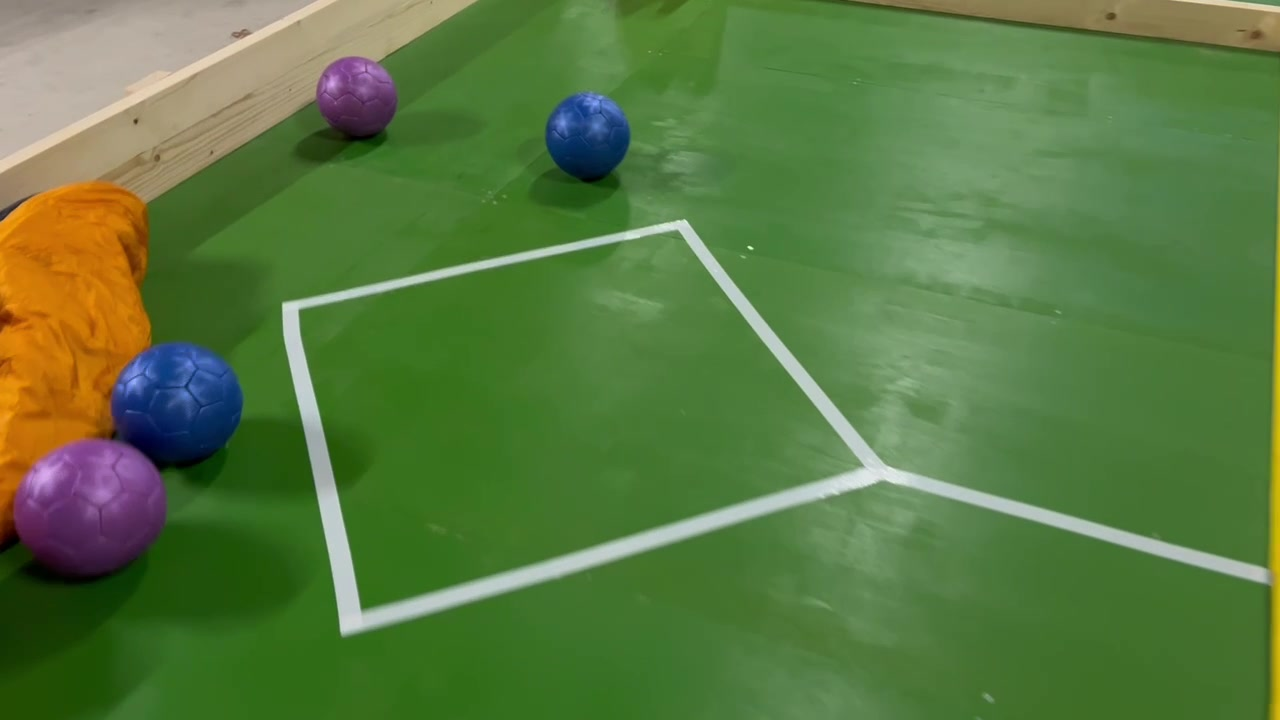blue: (102, 334, 247, 478), (540, 89, 640, 187)
